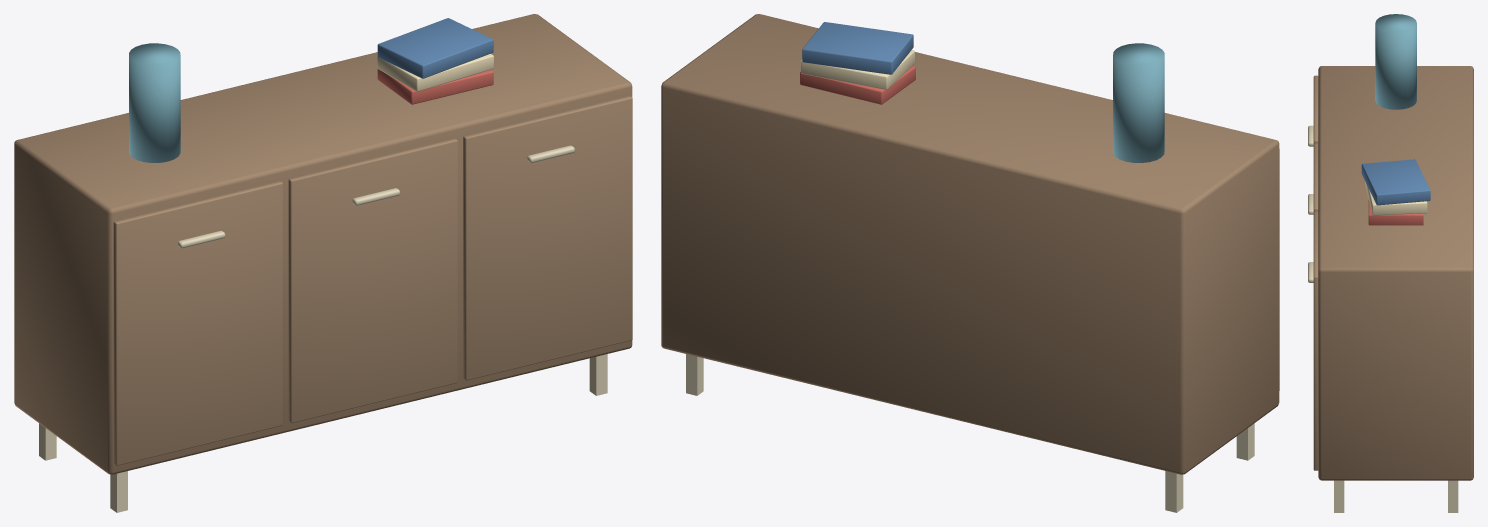
The model's file is sideboard.glb.
The picture shows the model from 3 angles, left to right: view 1: azimuth 30°, elevation 25°; view 2: azimuth 150°, elevation 25°; view 3: azimuth 270°, elevation 25°; orthographic projection. The views are drawn at different scales.
Visible parts, largest first — view 1: Cube, Cube.005, Cube.009, Cube.007, Cylinder, Cube.013, Cube.012, Cube.011, Cube.003, Cube.001; view 2: Cube, Cylinder, Cube.013, Cube.011, Cube.012, Cube.002, Cube.004; view 3: Cube, Cylinder, Cube.013, Cube.009, Cube.012, Cube.011, Cube.005, Cube.007, Cube.003, Cube.004.
Boxes of the visible parts, x1,y1,x2,y2 form: Cube: [14, 14, 632, 474]; Cube.005: [113, 181, 283, 465]; Cube.009: [463, 96, 632, 380]; Cube.007: [288, 138, 457, 423]; Cylinder: [129, 43, 180, 162]; Cube.013: [377, 18, 493, 78]; Cube.012: [377, 54, 493, 91]; Cube.011: [377, 69, 493, 104]; Cube.003: [589, 354, 607, 395]; Cube.001: [110, 471, 127, 512]; Cube: [661, 14, 1279, 474]; Cylinder: [1113, 43, 1164, 162]; Cube.013: [802, 22, 913, 74]; Cube.011: [800, 66, 915, 104]; Cube.012: [801, 50, 914, 89]; Cube.002: [1165, 471, 1183, 512]; Cube.004: [686, 354, 703, 395]; Cube: [1318, 66, 1473, 480]; Cylinder: [1375, 14, 1416, 109]; Cube.013: [1361, 159, 1430, 205]; Cube.009: [1313, 212, 1318, 470]; Cube.012: [1365, 181, 1427, 215]; Cube.011: [1368, 200, 1423, 225]; Cube.005: [1313, 75, 1318, 144]; Cube.007: [1313, 144, 1318, 212]; Cube.003: [1334, 480, 1344, 512]; Cube.004: [1448, 480, 1458, 512].
Size of the model in its own units: 1.4 by 1.05 by 0.48.
